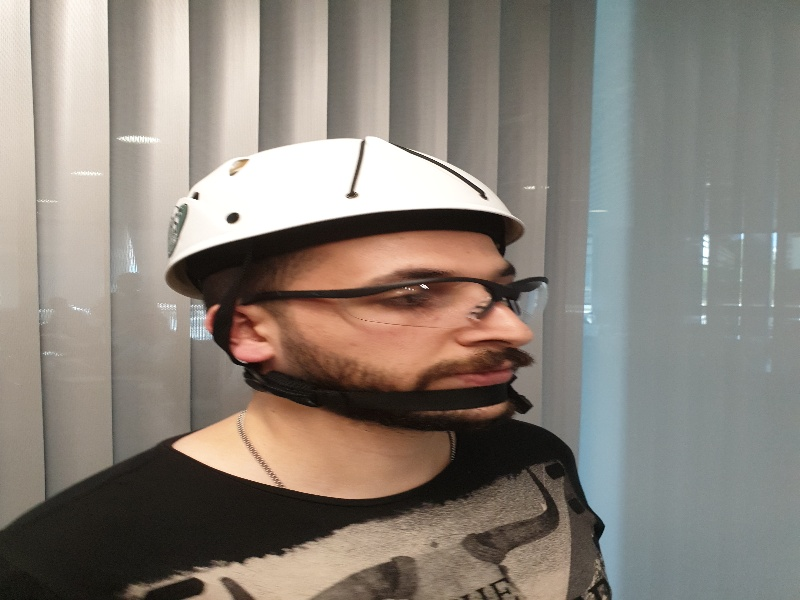Baret: (161, 139, 529, 264)
Gozluk: (251, 276, 555, 329)
